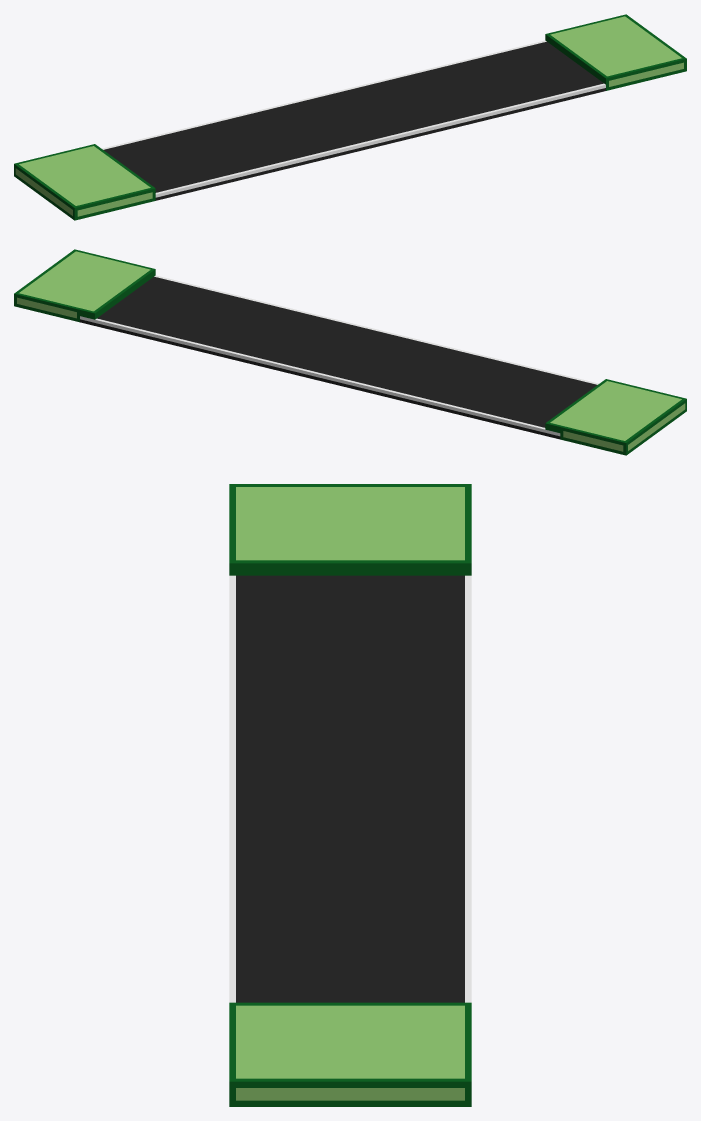
Rendered from calle_entrada.obj.
3 renders of one model, top to bottom at view 1: azimuth 30°, elevation 25°; view 2: azimuth 150°, elevation 25°; view 3: azimuth 270°, elevation 25°, orthographic. The views are drawn at different scales.
Bounding box in the file's own units: 20.4 × 0.4 × 3.5.
